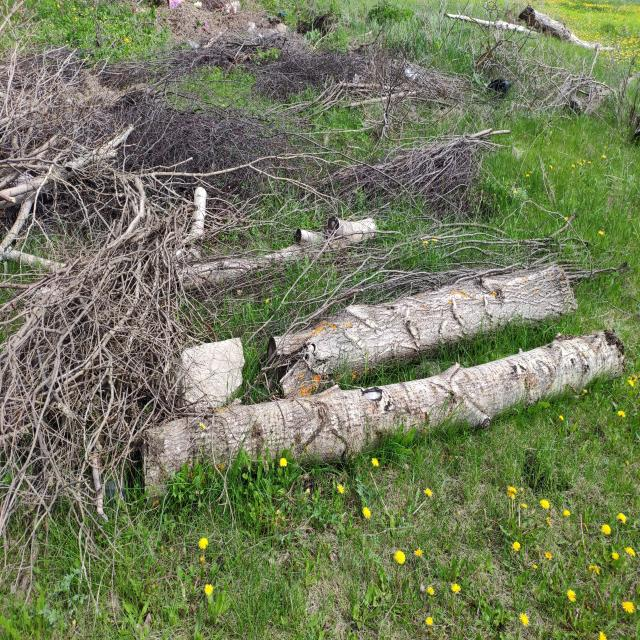restos de madeira: (1, 95, 250, 501), (4, 39, 140, 219), (429, 330, 632, 448), (137, 384, 345, 496), (226, 19, 446, 107), (141, 97, 302, 201), (315, 132, 485, 210), (267, 313, 414, 387), (439, 265, 582, 330), (336, 377, 456, 454), (476, 51, 610, 116), (358, 287, 463, 359), (164, 4, 263, 71), (514, 4, 620, 52)
